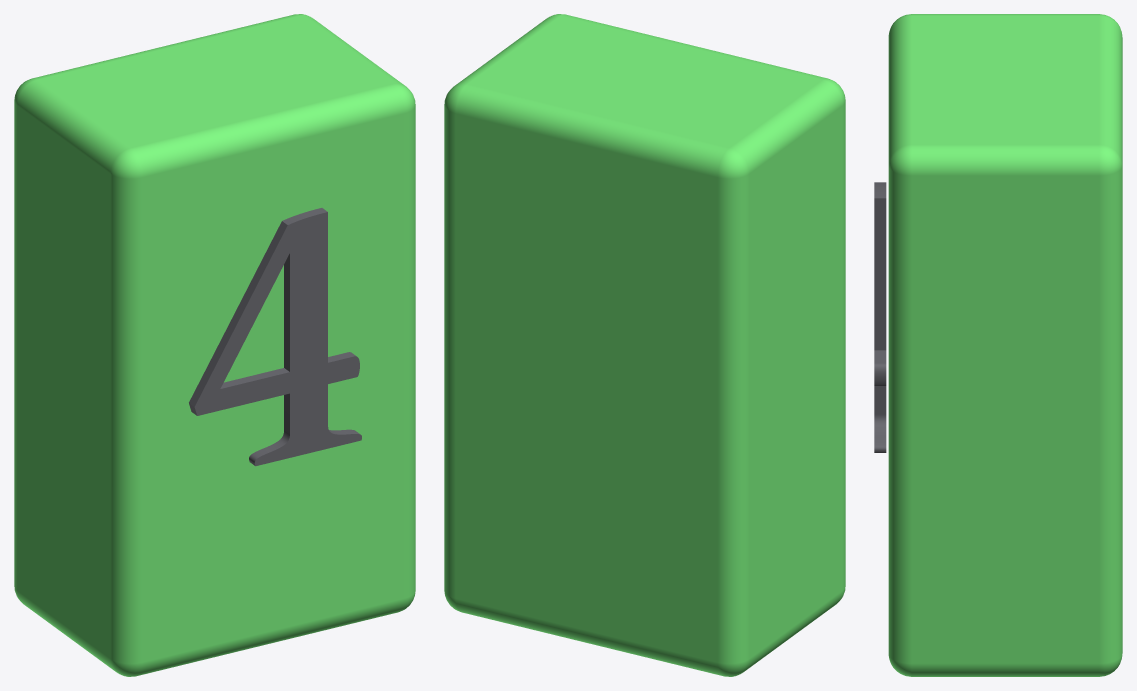
Rendered from pin_4.gltf.
3 renders of one model, left to right at view 1: azimuth 30°, elevation 25°; view 2: azimuth 150°, elevation 25°; view 3: azimuth 270°, elevation 25°, orthographic.
Visible parts, largest first — view 1: White, Black; view 2: White; view 3: White, Black.
Part boxes in pixels (x1,y1,x2,y2): White: [14, 14, 415, 676]; Black: [189, 208, 361, 466]; White: [444, 14, 845, 676]; White: [888, 14, 1122, 676]; Black: [874, 182, 886, 452].
Size of the model in its own units: 1.5 by 2.5 by 1.06.
